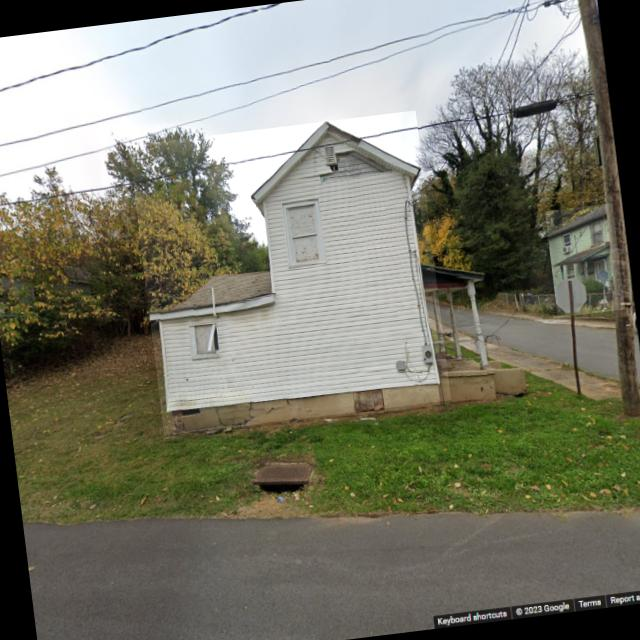House: (128, 110, 451, 436), (544, 203, 625, 317)
